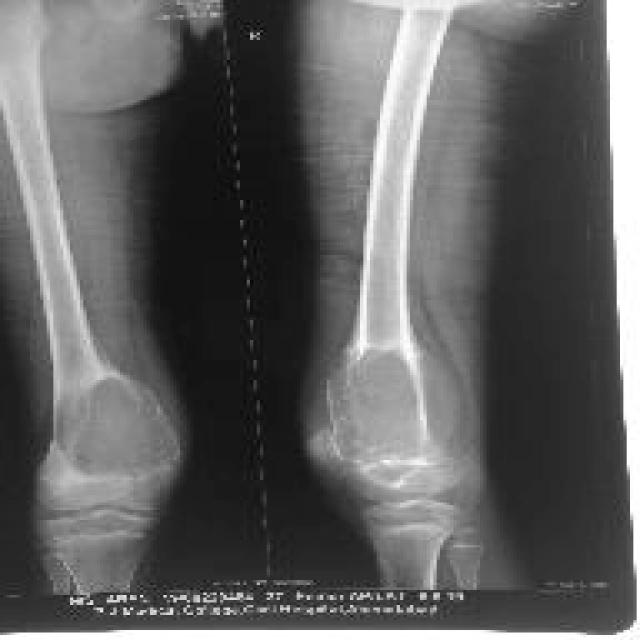bone-cancer: (318, 345, 436, 470), (56, 373, 173, 475)
